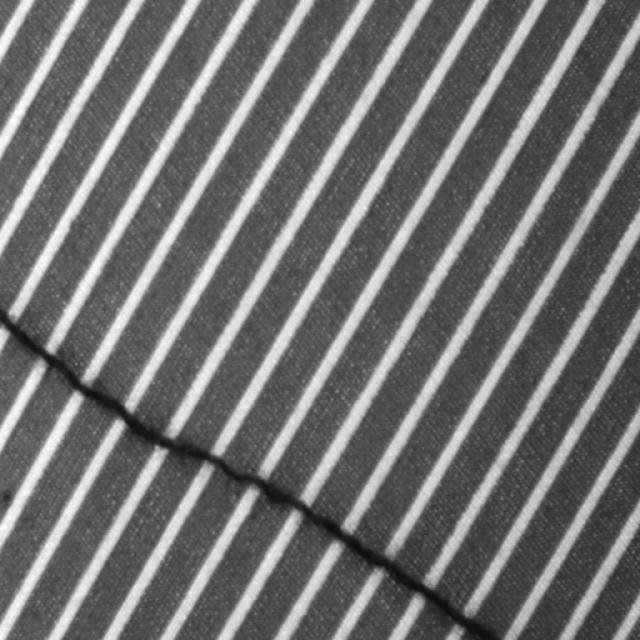Foreign-Body-Defect: (0, 295, 501, 639)
